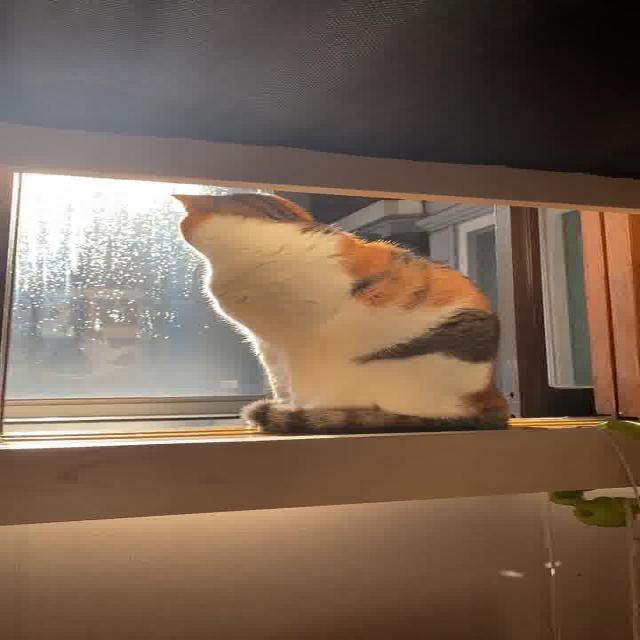cat: (144, 180, 545, 452)
